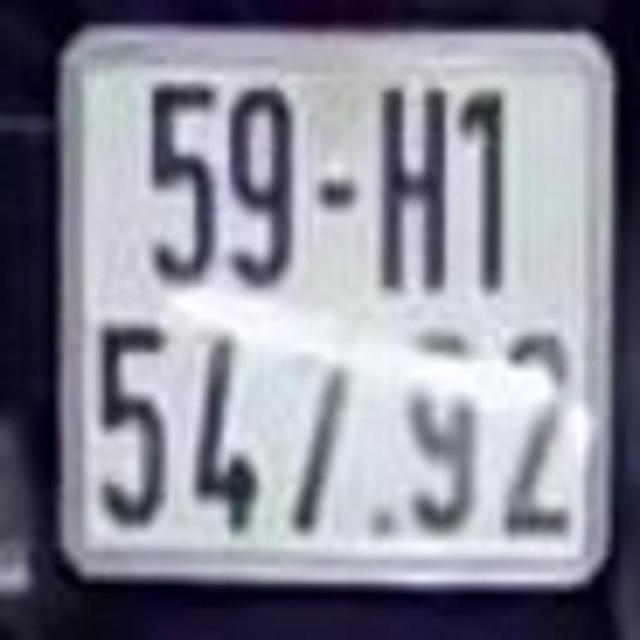1: (456, 82, 522, 295)
2: (501, 324, 574, 540)
4: (192, 322, 259, 533)
5: (93, 318, 171, 520), (147, 71, 215, 282)
7: (284, 311, 360, 532)
9: (398, 326, 477, 528), (224, 82, 299, 293)
H: (375, 76, 453, 303)
